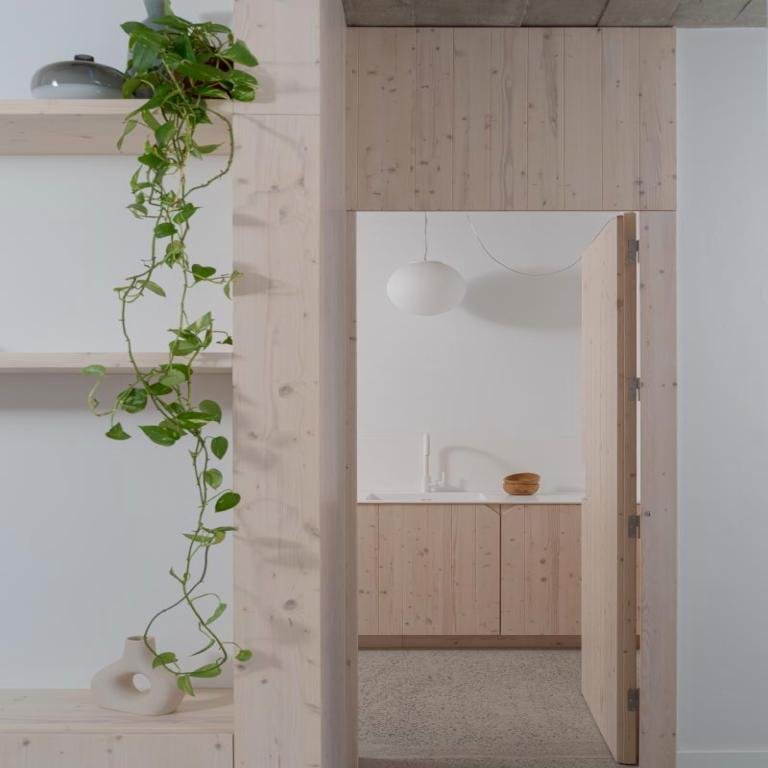white-walls: (698, 36, 765, 732)
